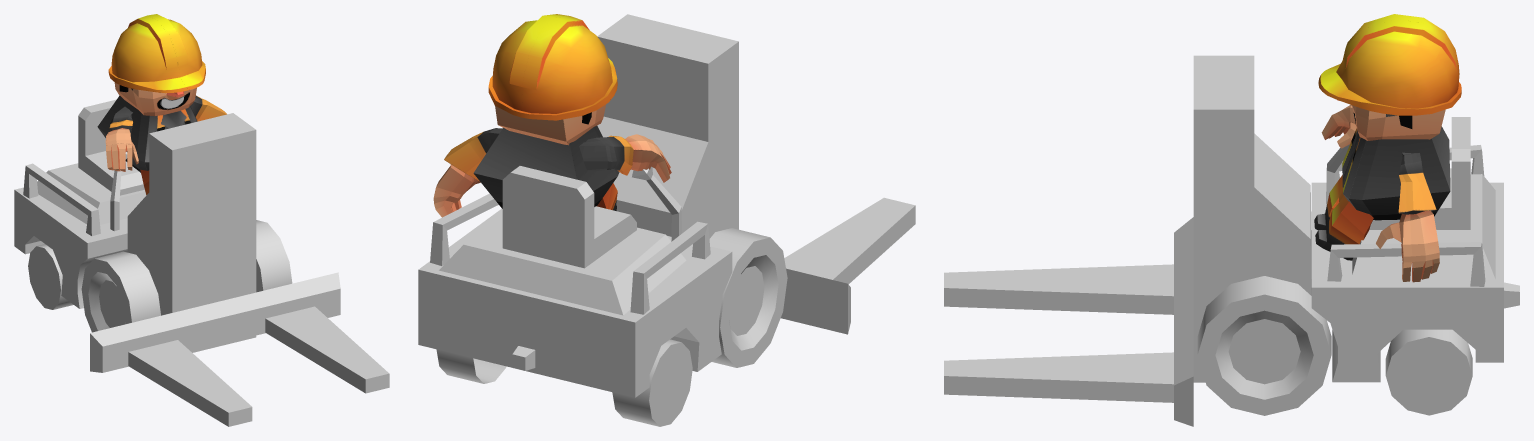
File: Loader+Man.fbx
3 views of the same model, side by side, from view 1: azimuth 30°, elevation 25°; view 2: azimuth 150°, elevation 25°; view 3: azimuth 270°, elevation 25° (orthographic). The views are drawn at different scales.
Visible parts, largest first — view 1: loader.001, loader_pitchfork.001, MarioCap__CapMT, loader_F_R_wheel.001, Torso, Hands, loader_rear_wheel.001, loader_F_L_wheel.001, Head; view 2: loader.001, MarioCap__CapMT, loader_pitchfork.001, loader_F_R_wheel.001, Hands, loader_rear_wheel.001, Torso, Head; view 3: loader.001, loader_pitchfork.001, loader_F_L_wheel.001, MarioCap__CapMT, Torso, loader_rear_wheel.001, Hands, Legs, Head.
Boxes of the visible parts, bbox=[...] form: loader.001: bbox=[14, 99, 263, 352]; loader_pitchfork.001: bbox=[90, 272, 389, 426]; MarioCap__CapMT: bbox=[108, 14, 205, 93]; loader_F_R_wheel.001: bbox=[81, 251, 160, 332]; Torso: bbox=[97, 95, 197, 172]; Hands: bbox=[105, 95, 226, 171]; loader_rear_wheel.001: bbox=[28, 244, 73, 309]; loader_F_L_wheel.001: bbox=[256, 220, 292, 290]; Head: bbox=[114, 82, 196, 116]; loader.001: bbox=[418, 14, 738, 397]; MarioCap__CapMT: bbox=[488, 14, 617, 120]; loader_pitchfork.001: bbox=[781, 197, 915, 334]; loader_F_R_wheel.001: bbox=[709, 228, 787, 367]; Hands: bbox=[433, 128, 671, 217]; loader_rear_wheel.001: bbox=[436, 339, 692, 426]; Torso: bbox=[473, 125, 619, 208]; Head: bbox=[495, 104, 605, 145]; loader.001: bbox=[1193, 55, 1519, 382]; loader_pitchfork.001: bbox=[944, 217, 1193, 426]; loader_F_L_wheel.001: bbox=[1197, 276, 1331, 415]; MarioCap__CapMT: bbox=[1318, 14, 1461, 115]; Torso: bbox=[1342, 126, 1450, 220]; loader_rear_wheel.001: bbox=[1385, 329, 1472, 415]; Hands: bbox=[1321, 105, 1439, 282]; Legs: bbox=[1314, 175, 1373, 260]; Head: bbox=[1337, 100, 1445, 140].
Size of the model in its own units: 53.36 by 55.92 by 81.37.
